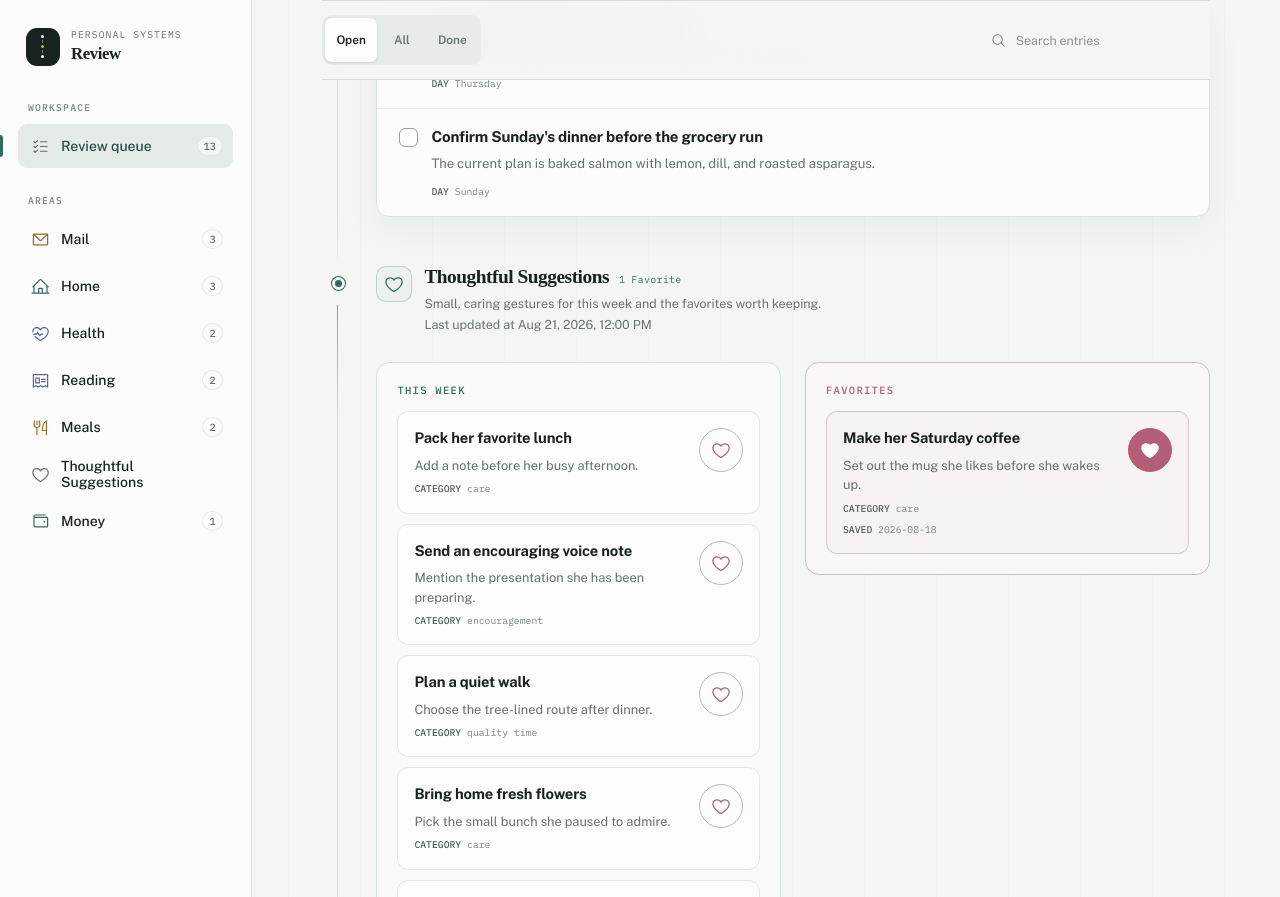
it: ReviewApp › reconciles a rejected removal from the authoritative snapshot without exposing private failures
The image size is (1280, 897).
(page scrolled)
Click the button named "Remove Make her Saturday coffee from Favorites" at [1150, 450], box [1128,428,1172,472]
(page scrolled)
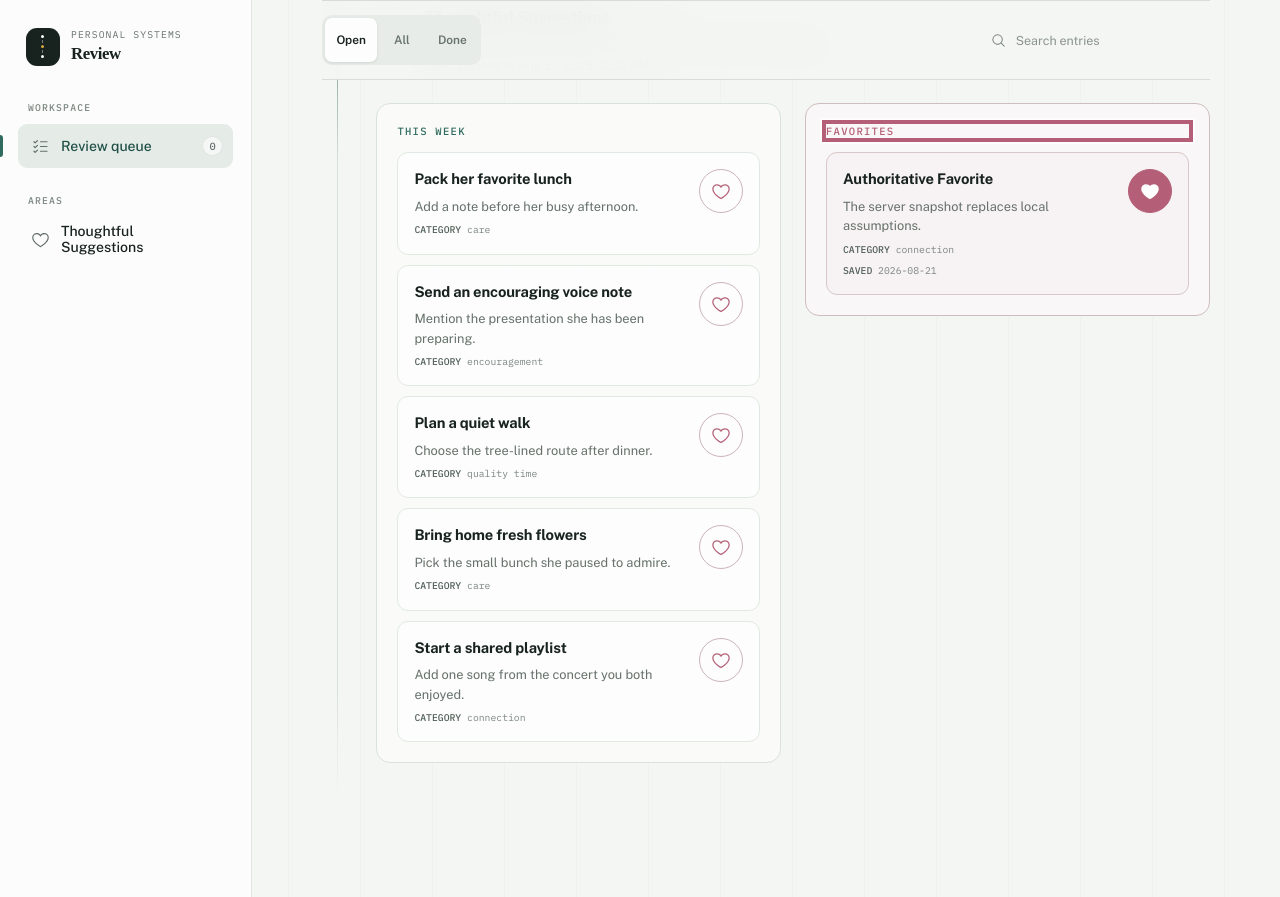
Result: the heading "Make her Saturday coffee" is gone
Result: the heading "Authoritative Favorite" is shown at [843,170,993,187]
